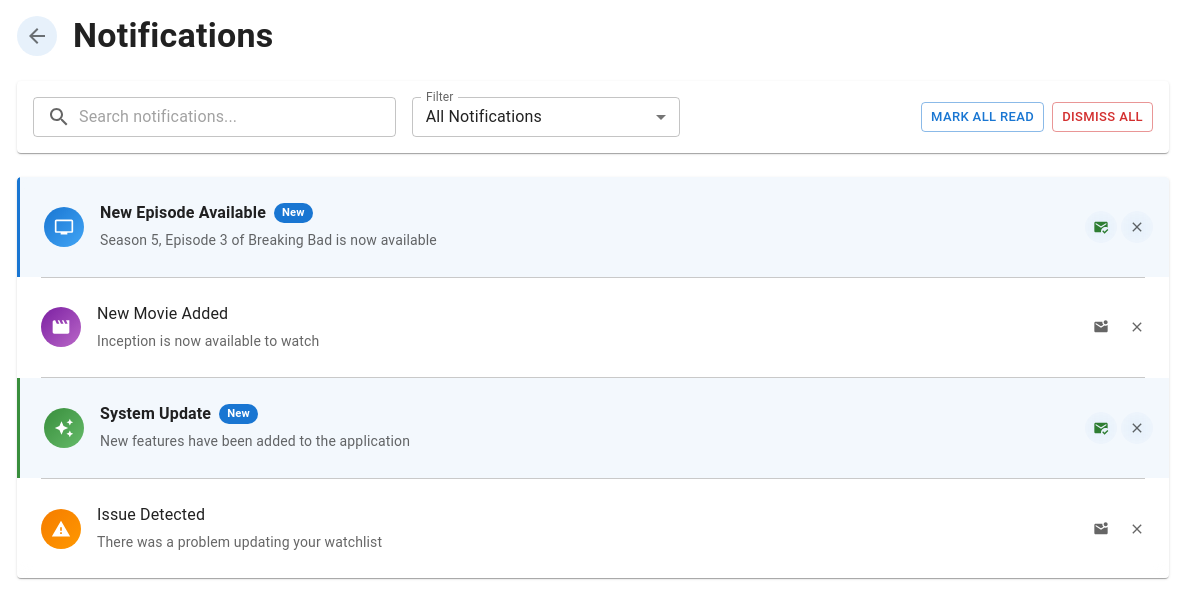
Test: Notifications › filtering › should filter notifications by content type
Click the dropdown.
click(484, 117)  # box [426,108,542,126]
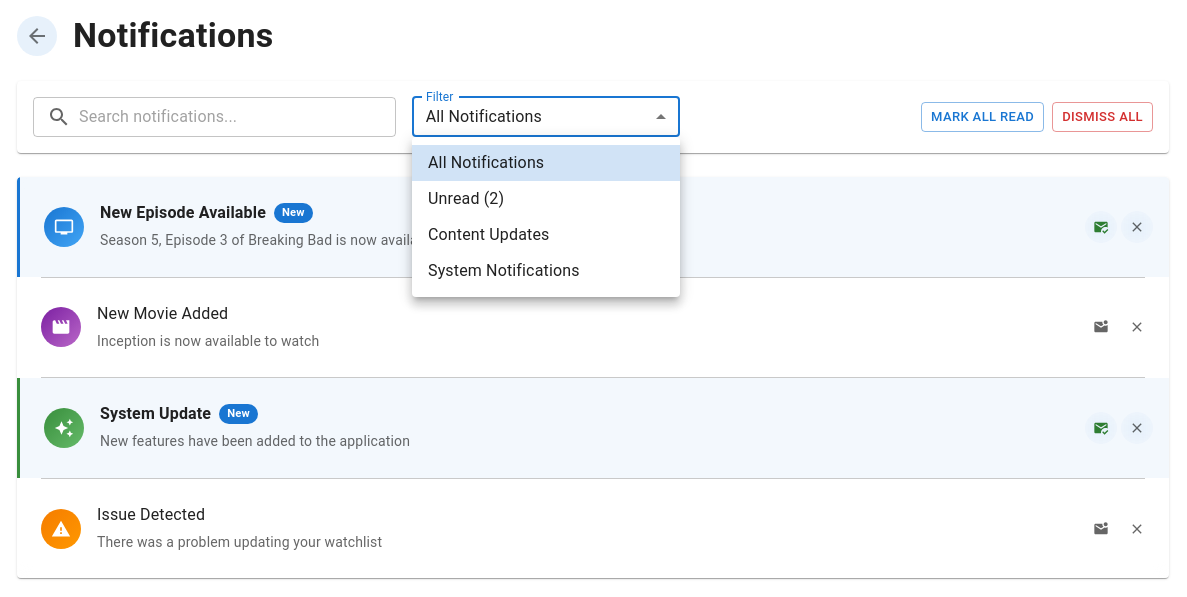
Click the option "Content Updates".
click(489, 234)  # box [428,225,550,244]
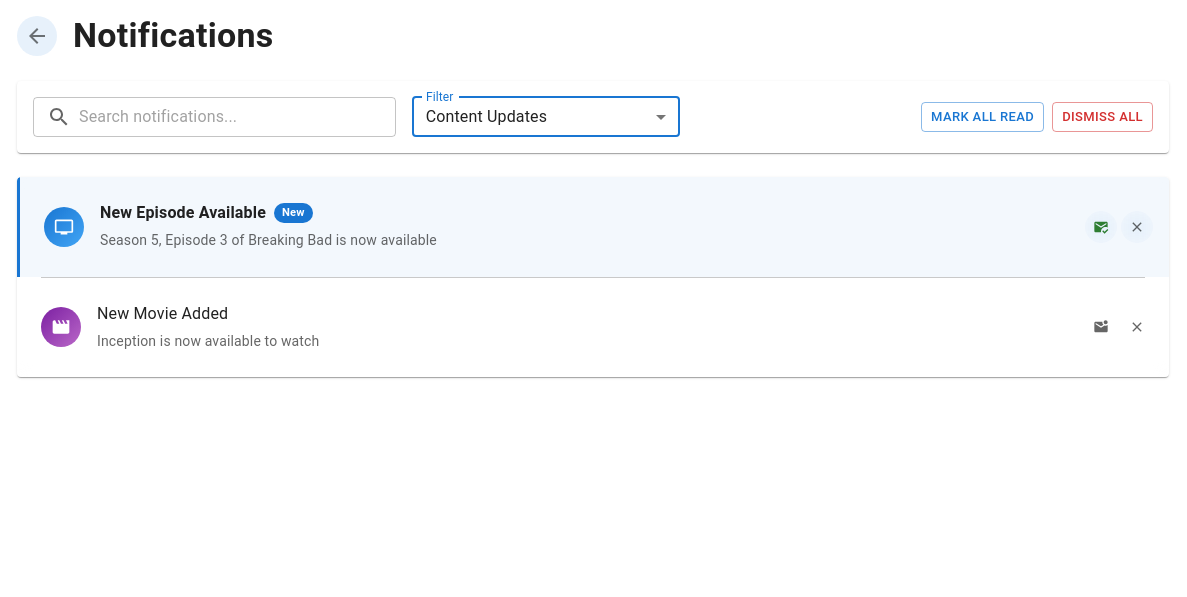
Expected: the heading "System Update" is gone
